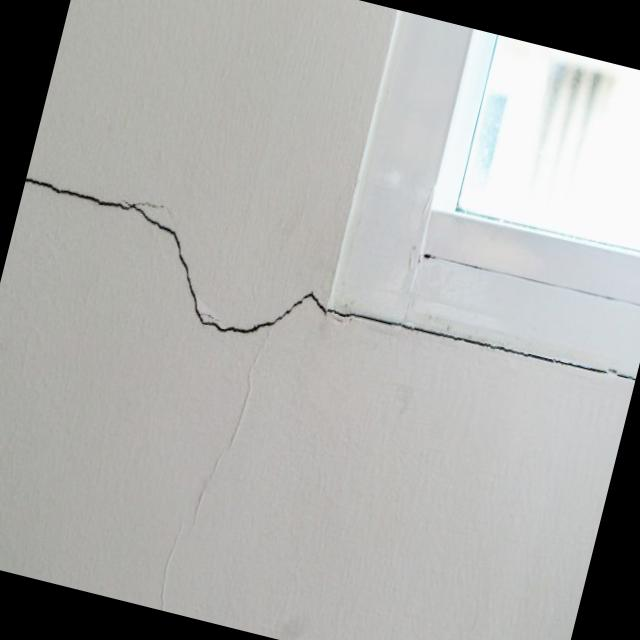crack: (1, 172, 340, 356)
